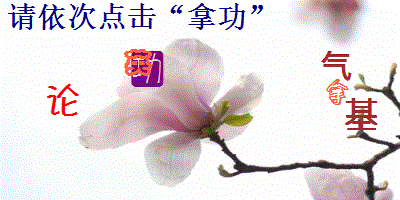result: (186, 2, 247, 31)
text: (343, 95, 379, 134), (130, 50, 164, 88), (45, 83, 80, 119), (320, 49, 354, 83), (123, 46, 153, 77), (325, 78, 348, 107)
